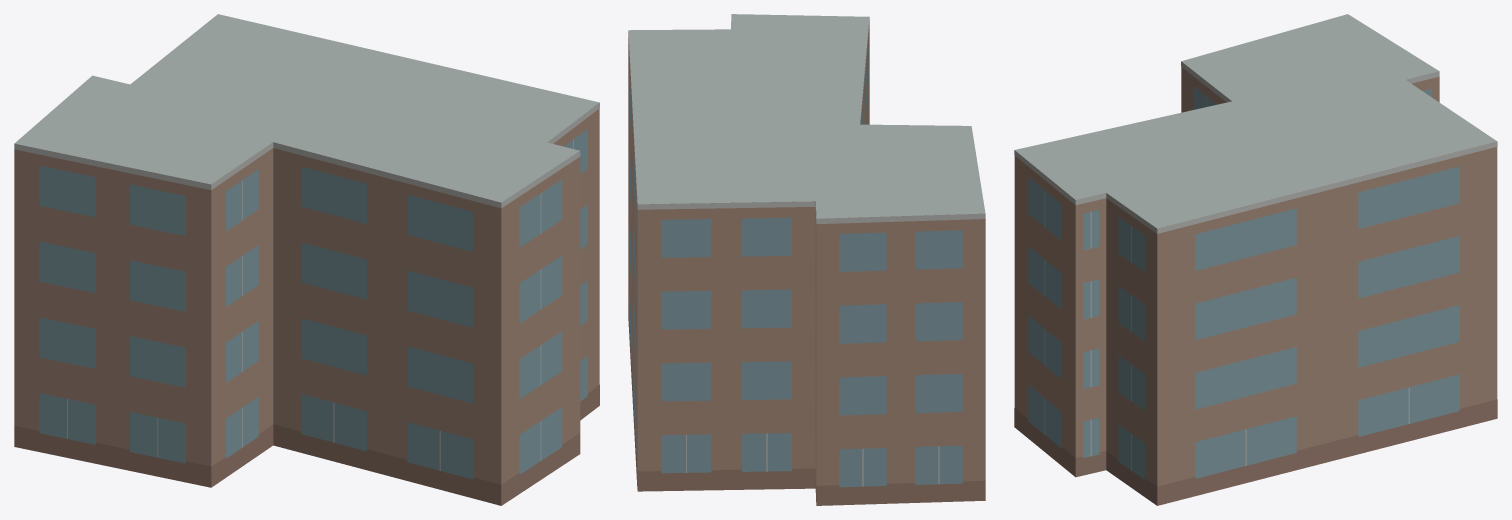
Rendered from survey-upis-32607063.glb.
3 renders of one model, left to right at view 1: azimuth 30°, elevation 25°; view 2: azimuth 150°, elevation 25°; view 3: azimuth 270°, elevation 25°, orthographic. The views are drawn at different scales.
Visible parts, largest first — view 1: survey-upis-32607063.tmp; view 2: survey-upis-32607063.tmp; view 3: survey-upis-32607063.tmp.
Part boxes in pixels (x1,y1,x2,y2): survey-upis-32607063.tmp: [14, 14, 599, 505]; survey-upis-32607063.tmp: [628, 14, 985, 505]; survey-upis-32607063.tmp: [1014, 14, 1497, 505].
Size of the model in its own units: 21.44 by 12.9 by 20.38.
